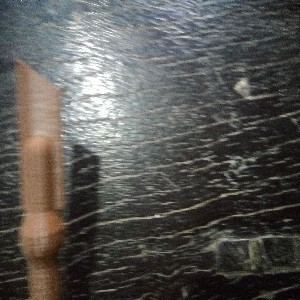cutter: (14, 59, 66, 300)
